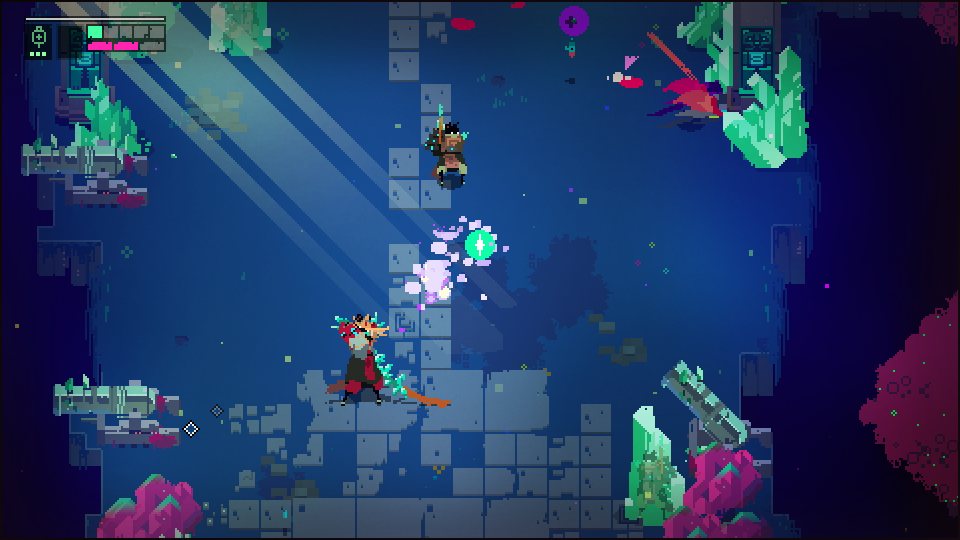hanged_man: (330, 314, 408, 403)
hanged_shot: (465, 228, 496, 259), (558, 7, 589, 35)
player: (665, 96, 729, 128)
